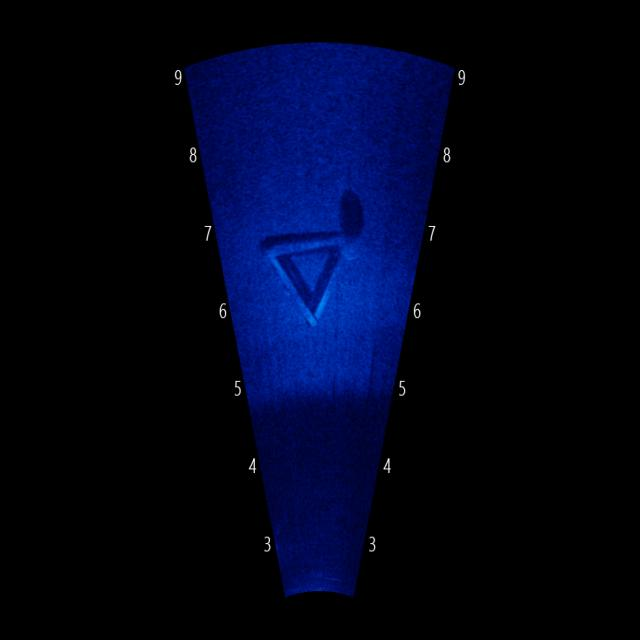triangle: (258, 218, 359, 334)
